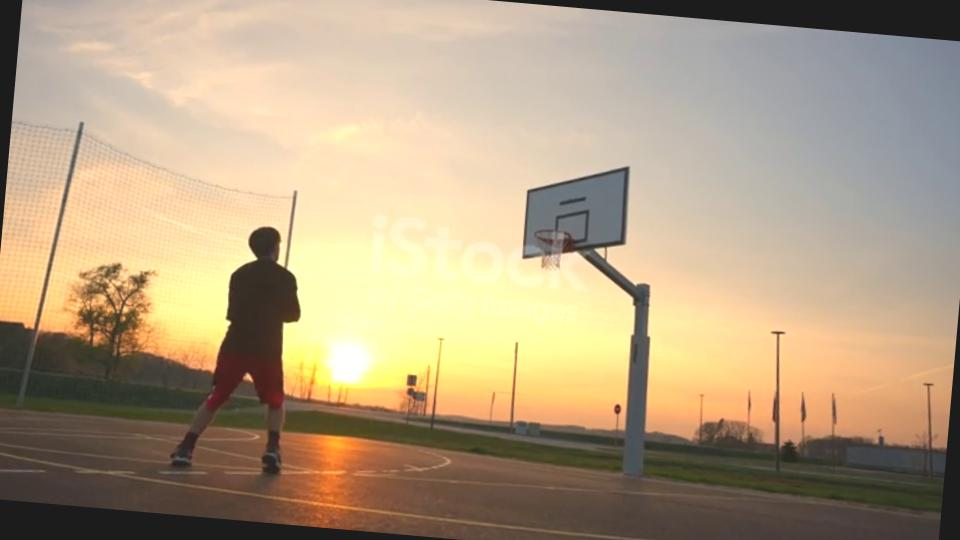hoop: (532, 226, 578, 247)
